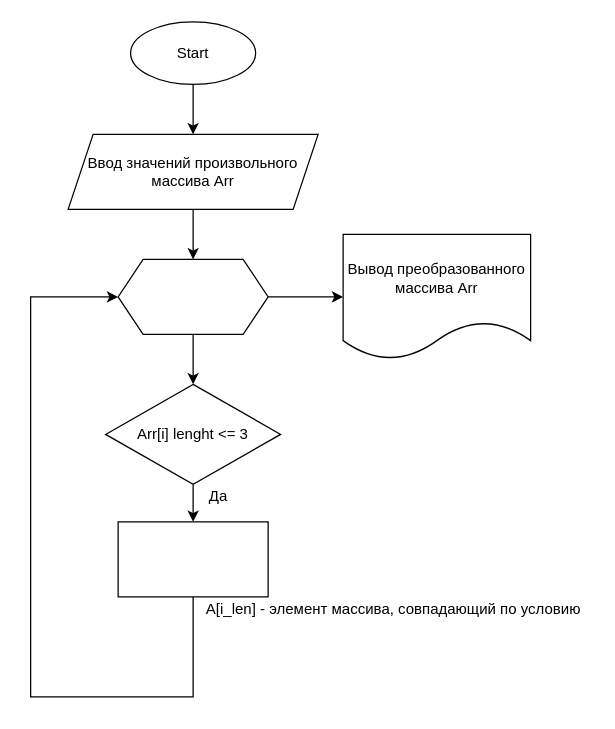
This 615x729 diagram has some shape labels left out. Here are the shapes that lost their labels. From the top down, the centre of each, then its label:
At point (192, 296): "i=0; i<lenght; 1".
At point (192, 559): "temp = A[i] A[i]=A[i_len] A[i_len]=temp".
